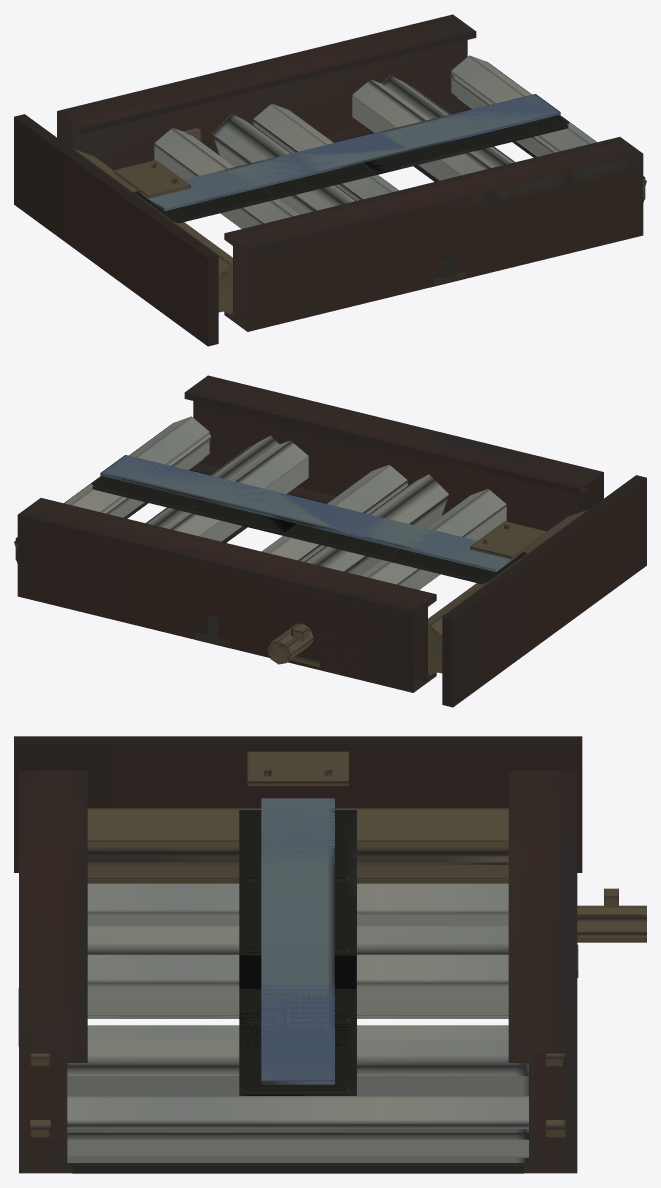
The model's file is place_works_conduit_lane_end.glb.
3 renders of one model, top to bottom at view 1: azimuth 30°, elevation 25°; view 2: azimuth 150°, elevation 25°; view 3: azimuth 270°, elevation 25°, orthographic. The views are drawn at different scales.
Parts seen in each view (by area): view 1: LOD0_Merged_Material_Atlas, LOD1_Merged_Material_Atlas, LOD2_Merged_Material_Atlas, LOD0_flow_mesh, LOD2_flow_mesh, LOD1_flow_mesh; view 2: LOD0_Merged_Material_Atlas, LOD1_Merged_Material_Atlas, LOD2_Merged_Material_Atlas, LOD0_flow_mesh, LOD2_flow_mesh, LOD1_flow_mesh; view 3: LOD0_Merged_Material_Atlas, LOD1_Merged_Material_Atlas, LOD0_flow_mesh, LOD2_Merged_Material_Atlas, LOD1_flow_mesh, LOD2_flow_mesh.
Boxes of the visible parts, x1,y1,x2,y2 form: LOD0_Merged_Material_Atlas: (14,14,645,346); LOD1_Merged_Material_Atlas: (57,15,646,331); LOD2_Merged_Material_Atlas: (57,15,643,331); LOD0_flow_mesh: (133,115,568,223); LOD2_flow_mesh: (135,117,566,222); LOD1_flow_mesh: (134,117,567,222); LOD0_Merged_Material_Atlas: (15,375,646,707); LOD1_Merged_Material_Atlas: (14,376,602,692); LOD2_Merged_Material_Atlas: (17,377,603,692); LOD0_flow_mesh: (92,476,526,584); LOD2_flow_mesh: (93,478,525,582); LOD1_flow_mesh: (92,479,526,583); LOD0_Merged_Material_Atlas: (14,736,646,1173); LOD1_Merged_Material_Atlas: (19,770,646,1172); LOD0_flow_mesh: (239,810,356,1095); LOD2_Merged_Material_Atlas: (19,770,577,1172); LOD1_flow_mesh: (239,810,356,1095); LOD2_flow_mesh: (239,810,356,1095).
Bounding box in the file's own units: 1.52 × 0.289 × 1.25.
1 material, 1 textured.
